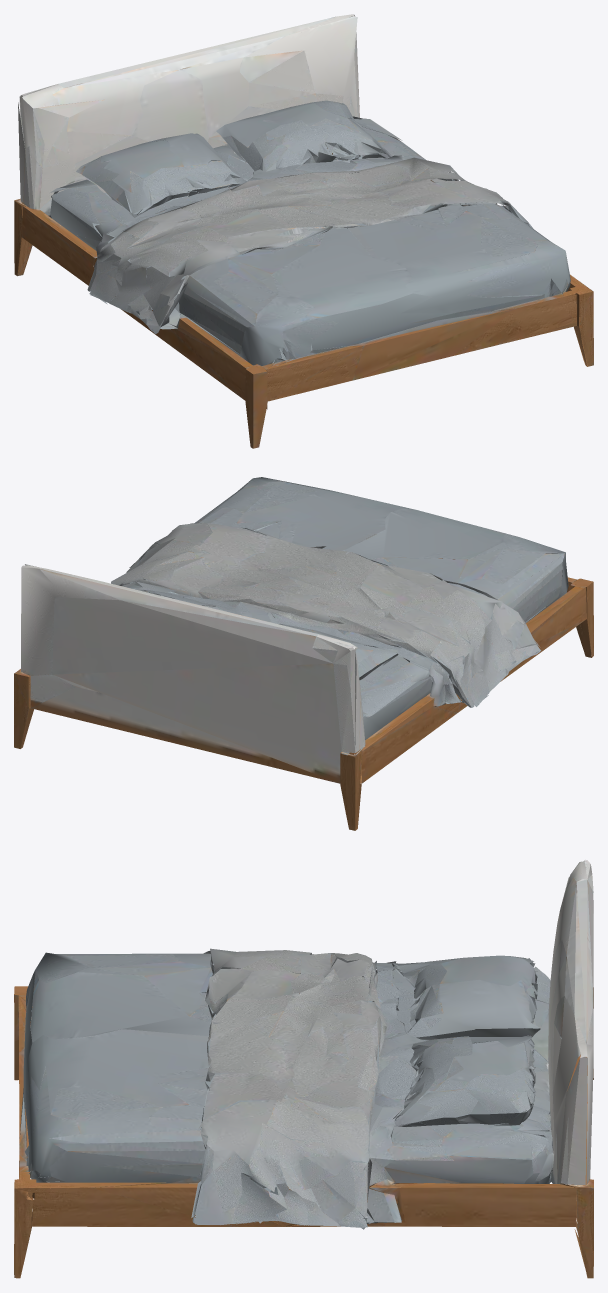
File: bed160.glb
3 renders of one model, top to bottom at view 1: azimuth 30°, elevation 25°; view 2: azimuth 150°, elevation 25°; view 3: azimuth 270°, elevation 25°, orthographic. The views are drawn at different scales.
Visible parts, largest first — view 1: bed160; view 2: bed160; view 3: bed160.
Boxes of the visible parts, <box> form: bed160: <box>14,14,593,448</box>; bed160: <box>14,477,593,830</box>; bed160: <box>14,860,593,1278</box>.
Size of the model in its own units: 1.89 by 0.8456 by 2.
Materials: 1 (1 with a texture image).
